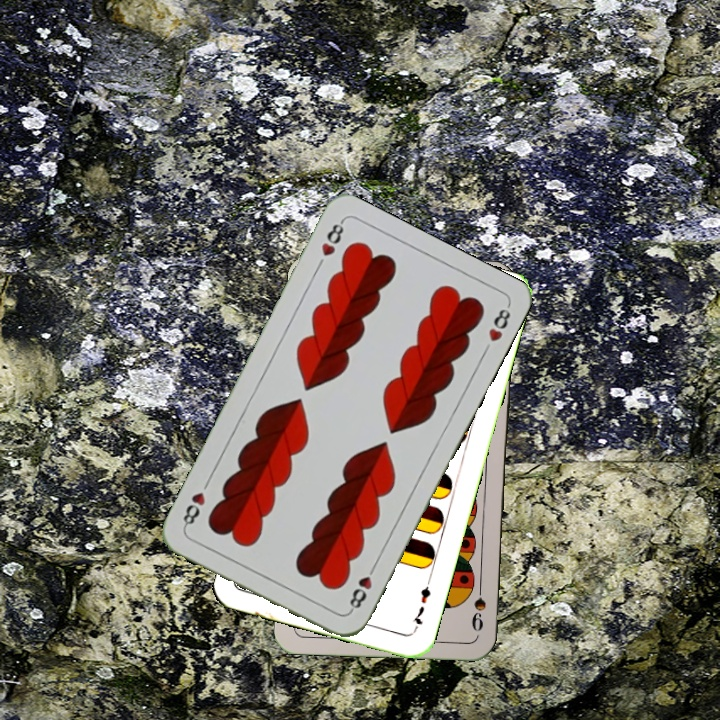E7: (408, 575, 434, 633)
H8: (345, 560, 379, 615), (317, 217, 347, 259)
S9: (467, 576, 488, 634)
